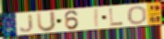6: (64, 10, 80, 31)
I: (94, 8, 100, 28)
J: (19, 14, 35, 33)
L: (108, 8, 125, 27)
O: (127, 5, 148, 26)
U: (36, 11, 57, 33)
